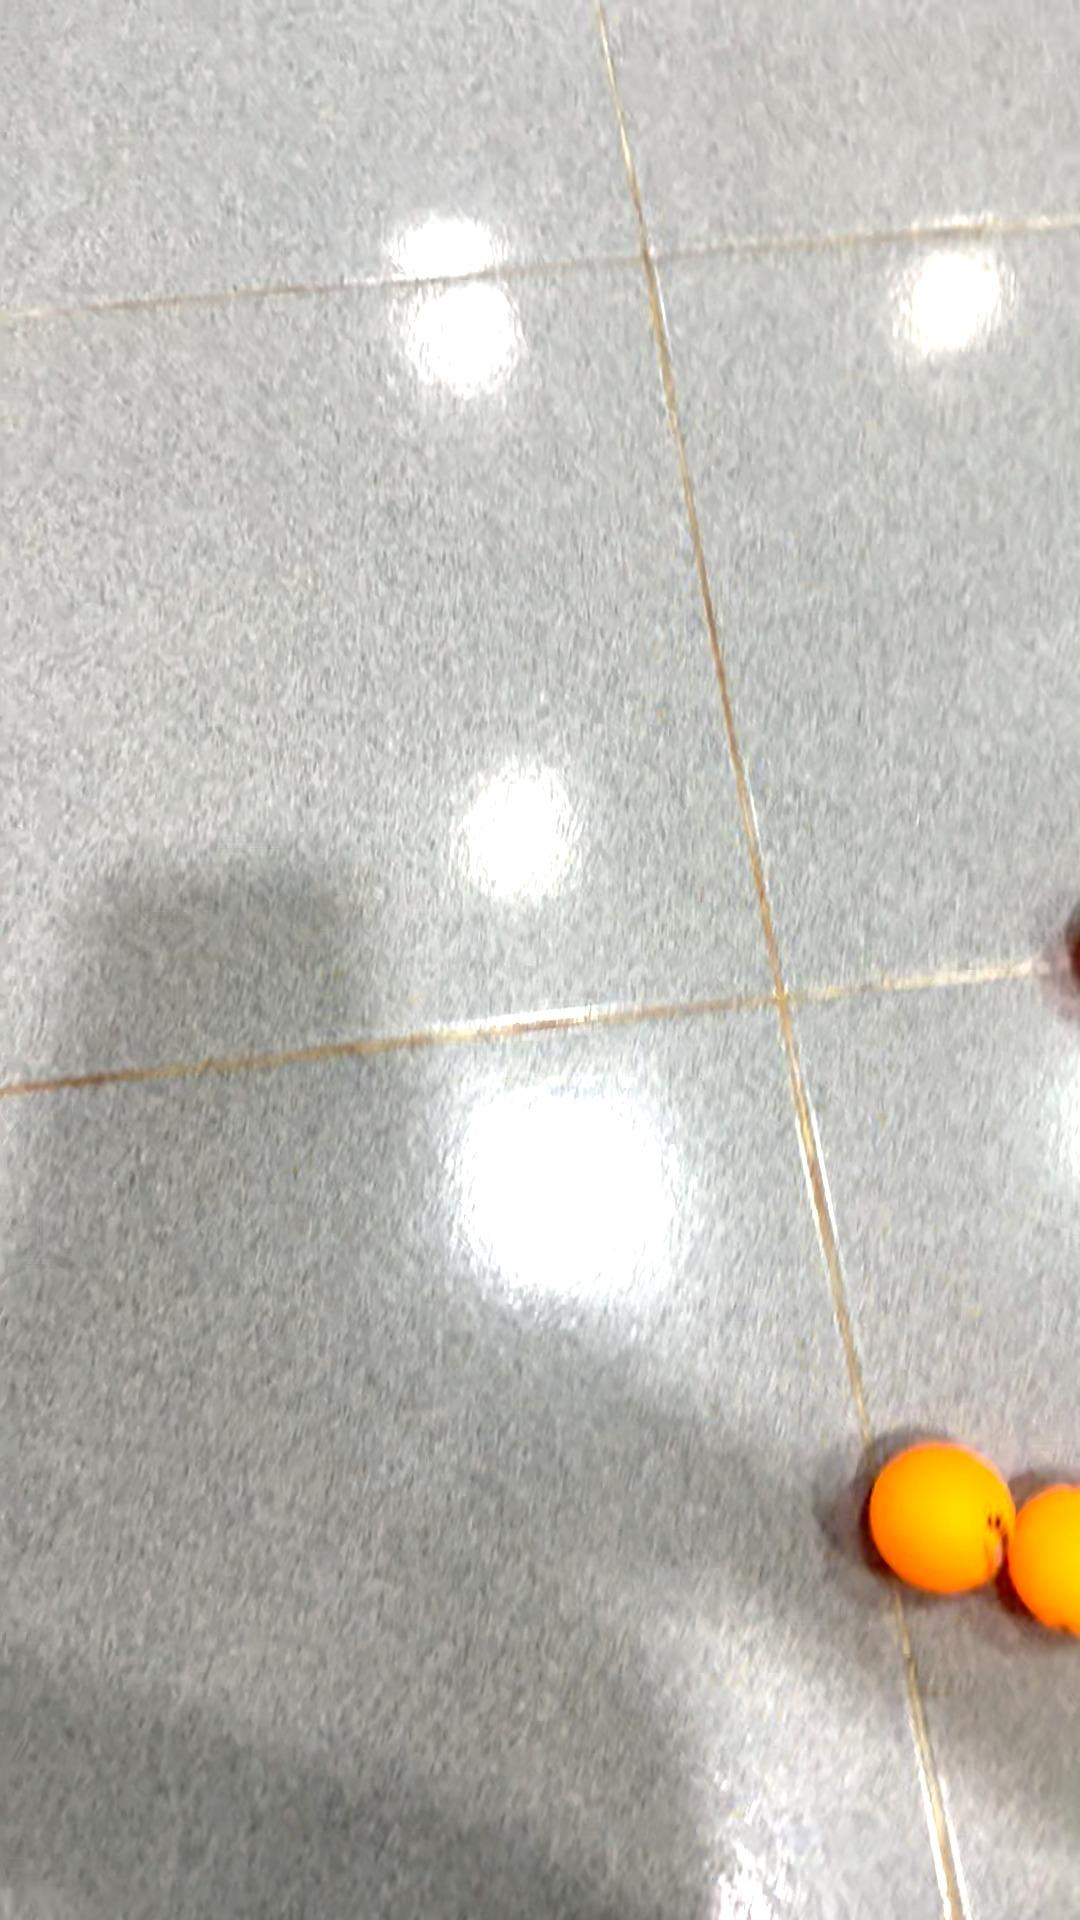oball: (855, 1428, 1010, 1610), (1007, 1473, 1080, 1629)
